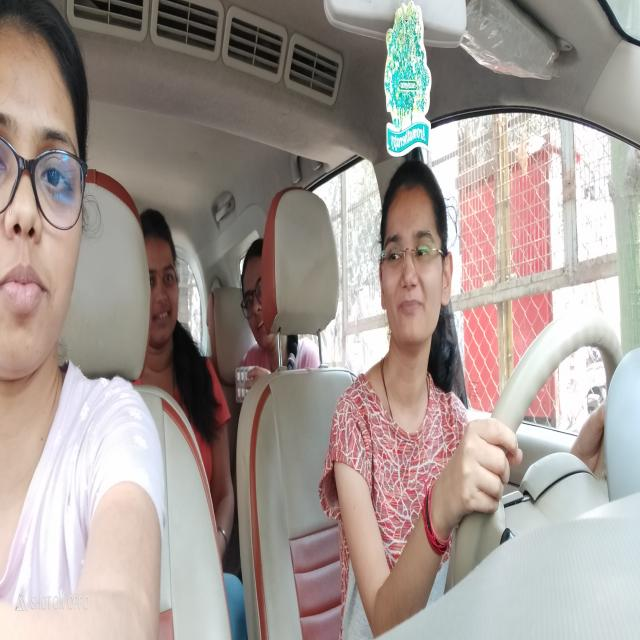LeftRight: (369, 159, 456, 361)
person: (0, 1, 101, 392), (142, 202, 182, 351), (240, 236, 269, 362)
